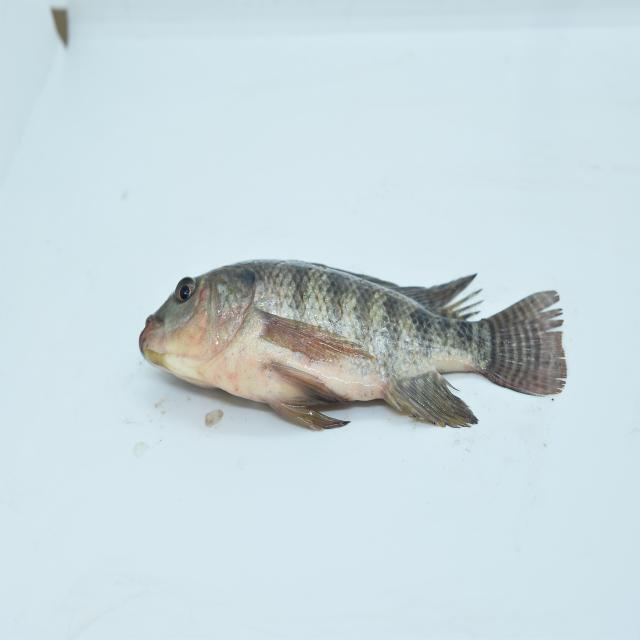Columnaris Disease: (117, 243, 598, 454)
